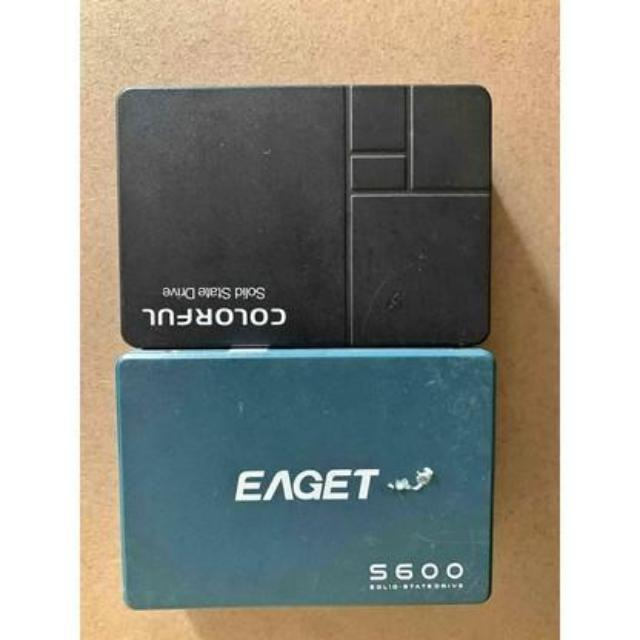DISK: (109, 350, 494, 618), (111, 80, 498, 342)
